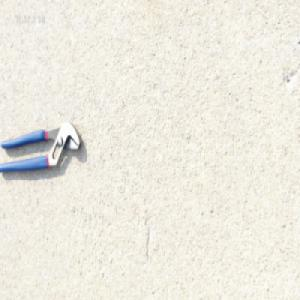Pliers: (0, 119, 81, 173)
